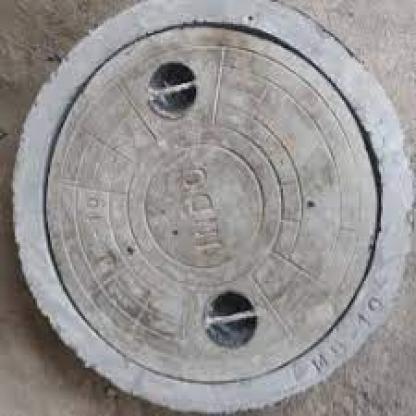fake manhole: (6, 0, 414, 409)
